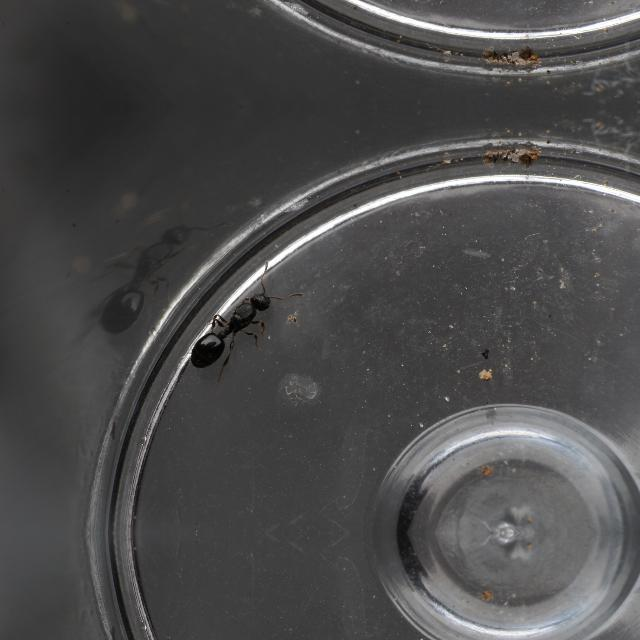Temnothorax: (76, 204, 212, 334), (178, 277, 308, 378)
